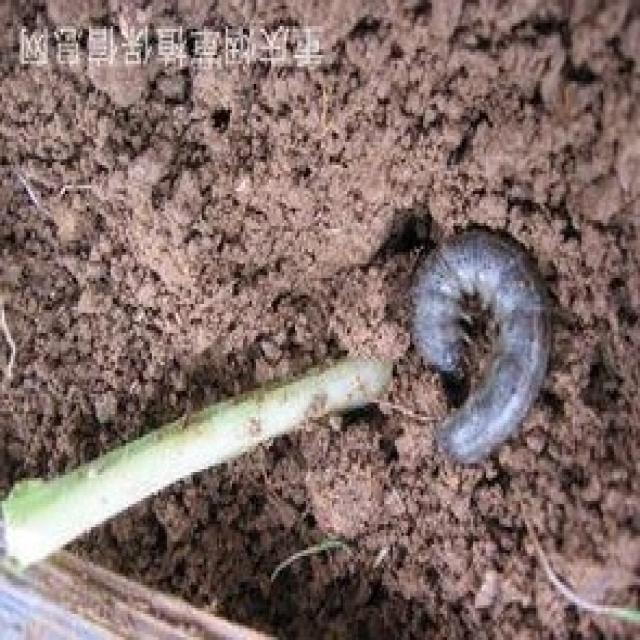black cutworm: (396, 234, 556, 457)
